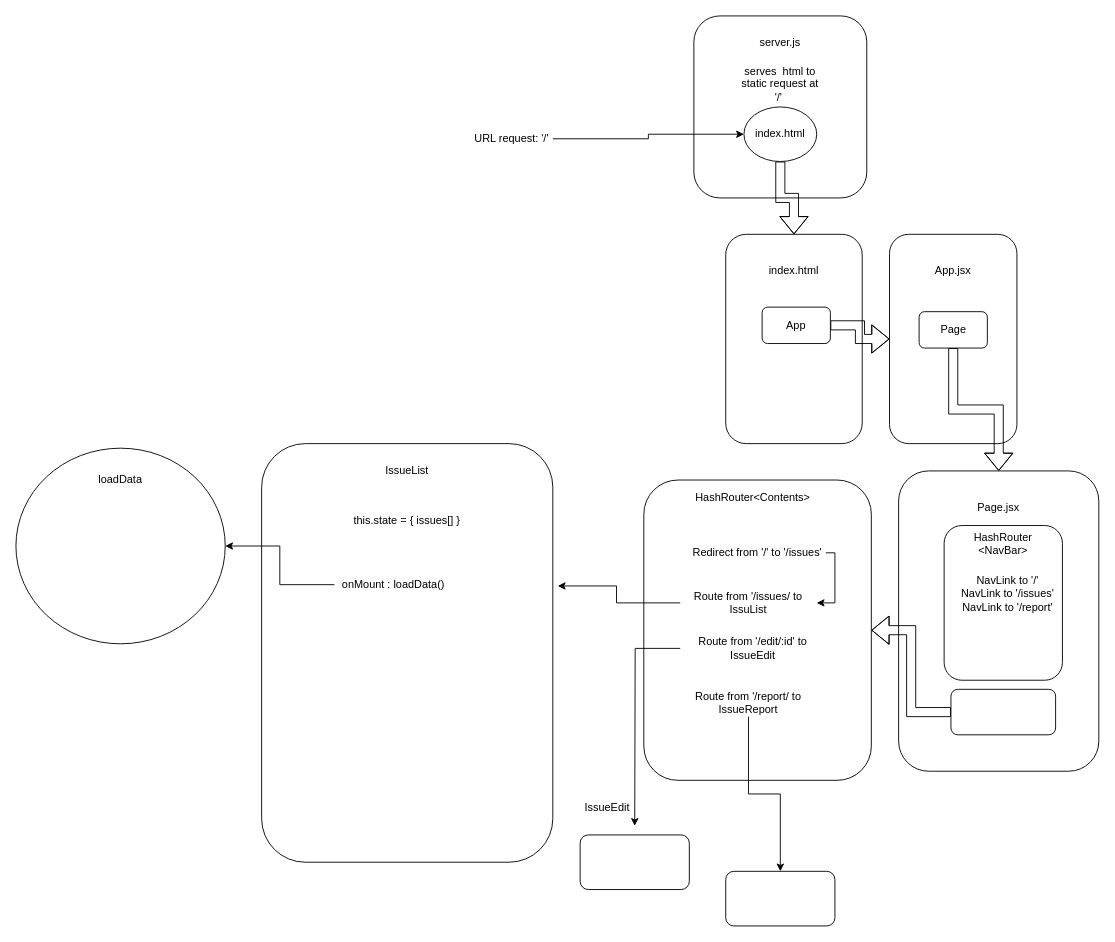
Some shapes in this 1115 by 942 pixel diagram are drawn without their labels. Here are the shapes that lost their labels. From the top down, the centre of each, then its label:
(1003,711): Contents
(780,898): IssueReport
